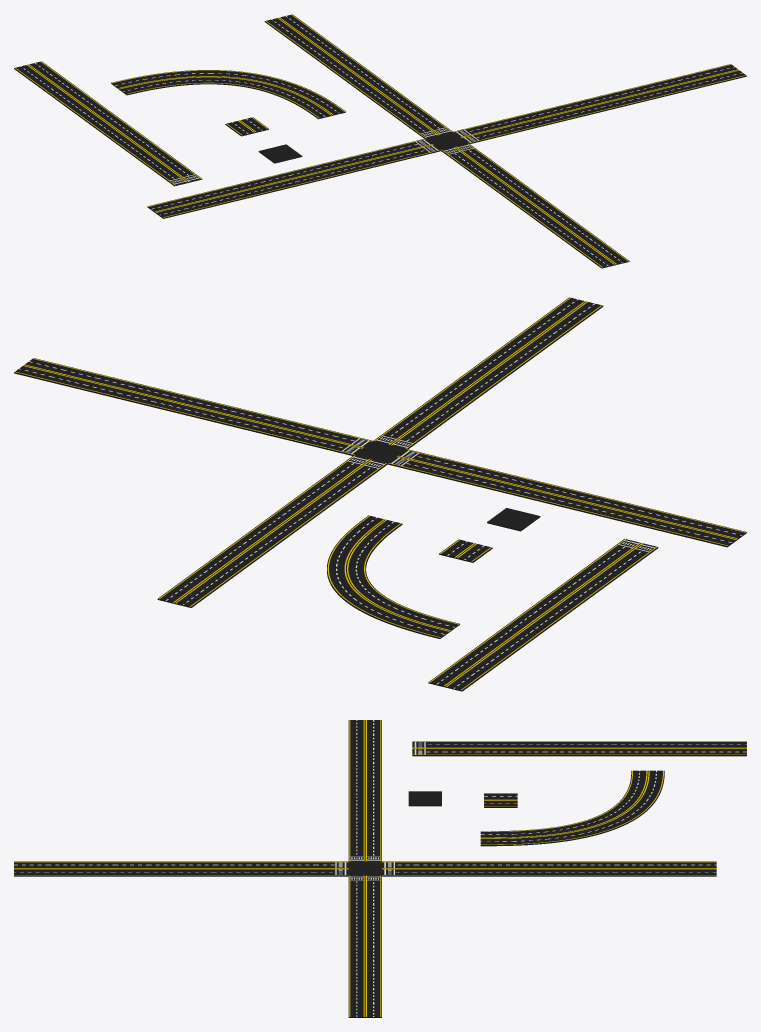
File: highway road.fbx
3 renders of one model, top to bottom at view 1: azimuth 30°, elevation 25°; view 2: azimuth 150°, elevation 25°; view 3: azimuth 270°, elevation 25°, orthographic. The views are drawn at different scales.
Parts seen in each view (by area): view 1: crose_road, road with zebra crossing, cuve road, simple road, Two way road; view 2: crose_road, road with zebra crossing, cuve road, Two way road, simple road; view 3: crose_road, road with zebra crossing, cuve road, simple road, Two way road.
Part boxes in pixels (x1,y1,x2,y2): crose_road: (147, 14, 746, 268); road with zebra crossing: (14, 61, 202, 186); cuve road: (111, 70, 345, 119); simple road: (258, 144, 302, 163); Two way road: (225, 117, 268, 136); crose_road: (14, 297, 746, 607); road with zebra crossing: (428, 539, 658, 691); cuve road: (327, 515, 459, 638); Two way road: (439, 539, 492, 562); simple road: (487, 508, 540, 531); crose_road: (14, 720, 716, 1017); road with zebra crossing: (412, 741, 746, 756); cuve road: (480, 770, 664, 846); simple road: (408, 791, 441, 806); Two way road: (484, 793, 517, 807).
Size of the model in its own units: 4200 by 6 by 4382.
